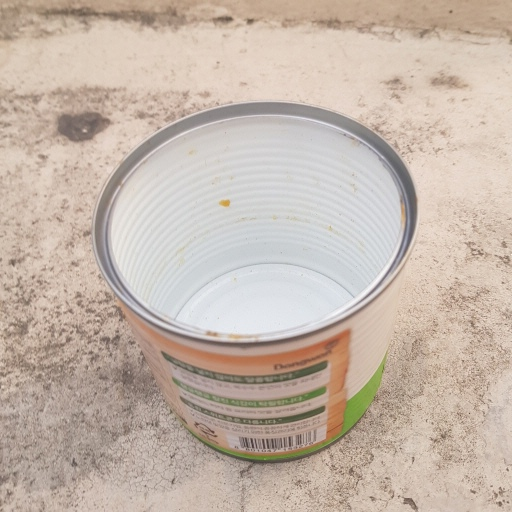Metal_1: (90, 101, 420, 462)
